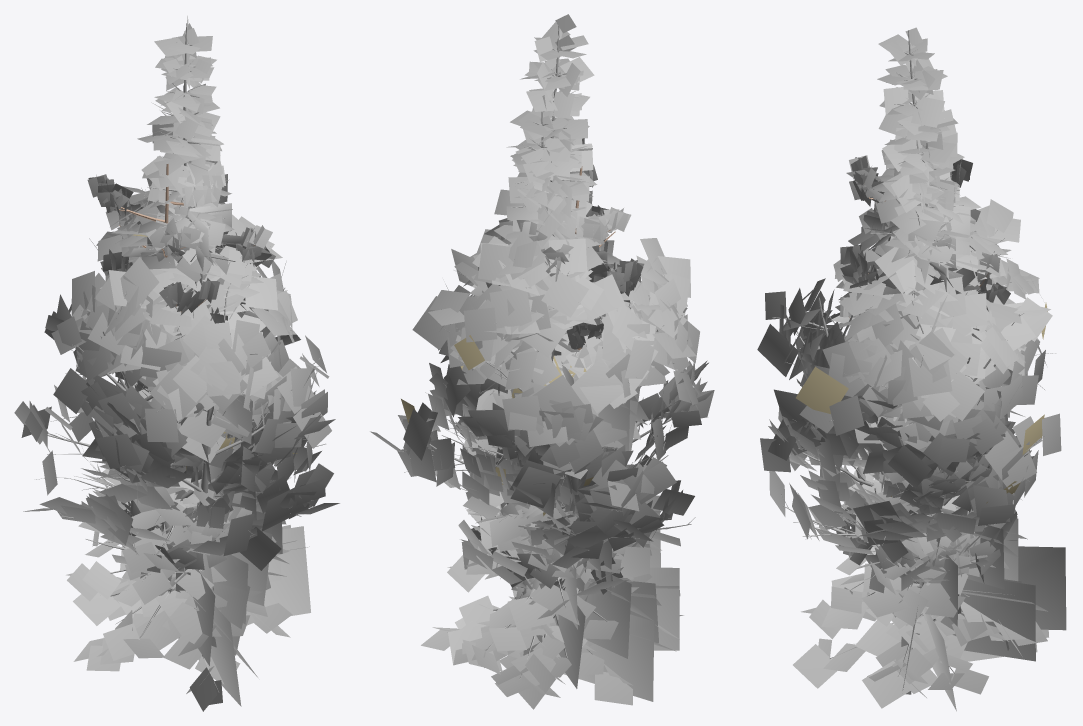
The model's file is vegetation.glb.
3 renders of one model, left to right at view 1: azimuth 30°, elevation 25°; view 2: azimuth 150°, elevation 25°; view 3: azimuth 270°, elevation 25°, orthographic.
Parts seen in each view (by area): view 1: wide_LOD0, spruce_LOD0, round_LOD0, spruce_forest_LOD0, pine_LOD0, fruit_LOD0, birch_LOD0, slender_LOD0; view 2: round_LOD0, wide_LOD0, spruce_LOD0, spruce_forest_LOD0, pine_LOD0, birch_LOD0, fruit_LOD0, slender_LOD0; view 3: wide_LOD0, spruce_LOD0, round_LOD0, spruce_forest_LOD0, pine_LOD0, fruit_LOD0, slender_LOD0.
Part boxes in pixels (box(x1,y1,x2,y2)): wide_LOD0: box(14, 203, 339, 570); spruce_LOD0: box(66, 85, 310, 711); round_LOD0: box(44, 186, 335, 535); spruce_forest_LOD0: box(129, 15, 274, 462); pine_LOD0: box(87, 160, 275, 323); fruit_LOD0: box(121, 465, 252, 571); birch_LOD0: box(115, 372, 233, 528); slender_LOD0: box(99, 308, 265, 495); round_LOD0: box(398, 208, 708, 544); wide_LOD0: box(370, 229, 714, 595); spruce_LOD0: box(421, 95, 683, 709); spruce_forest_LOD0: box(455, 14, 649, 460); pine_LOD0: box(478, 138, 644, 355); birch_LOD0: box(460, 343, 617, 516); fruit_LOD0: box(460, 491, 625, 591); slender_LOD0: box(456, 349, 603, 529); wide_LOD0: box(757, 234, 1061, 590); spruce_LOD0: box(793, 90, 1066, 711); round_LOD0: box(760, 199, 1045, 558); spruce_forest_LOD0: box(830, 27, 1024, 469); pine_LOD0: box(833, 155, 1010, 318); fruit_LOD0: box(836, 475, 995, 587); slender_LOD0: box(808, 335, 992, 585).
Size of what is drawn, in the model's own units: 13.08 by 27.83 by 11.88.
